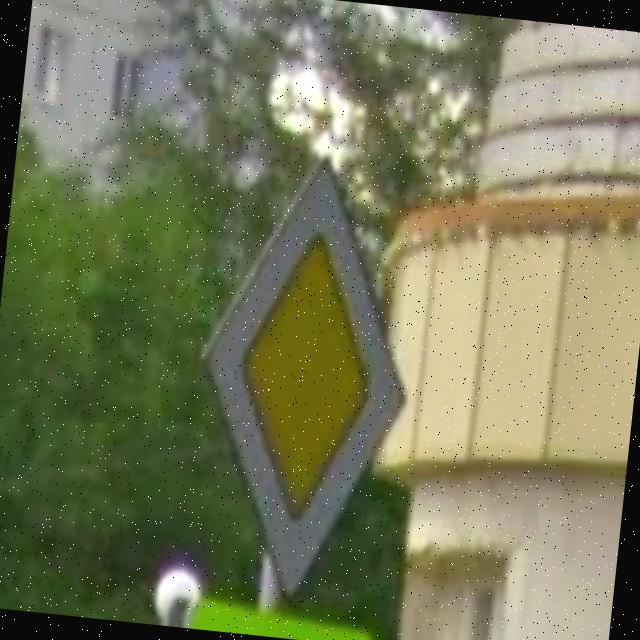Droga z pierwszenstwem: (172, 141, 434, 612)
